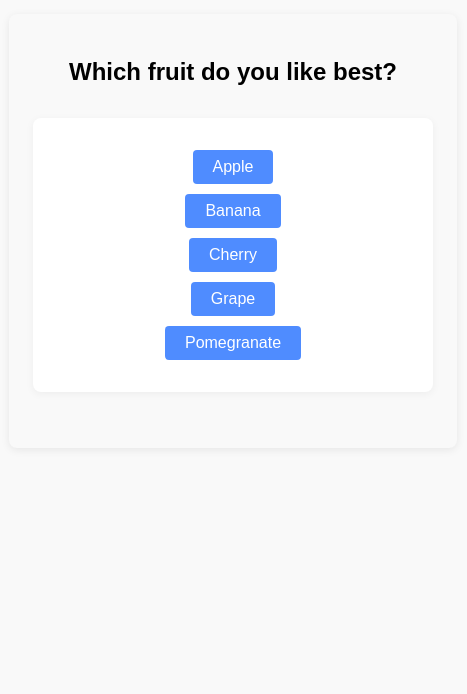
it: SurveyPage › After changing fruit and entering new prediction, feedback appears
The image size is (467, 694).
// Select "Apple" and make a prediction
Click the button "Apple" at (233, 167), box [192,150,273,184]
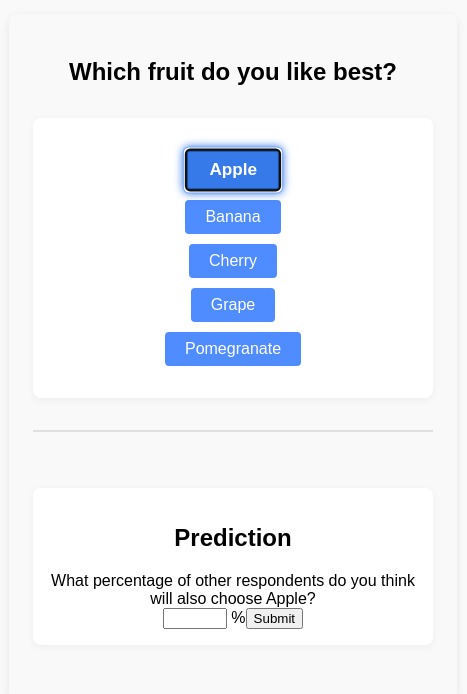
Type "42" into the number field labelled "What percentage" at (195, 618), box [163,608,227,629]
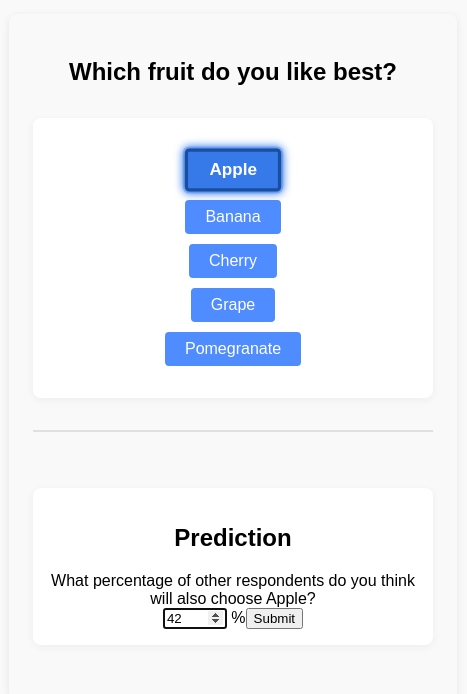
// Click submit
Click the button "Submit" at (274, 618), box [246,608,303,629]
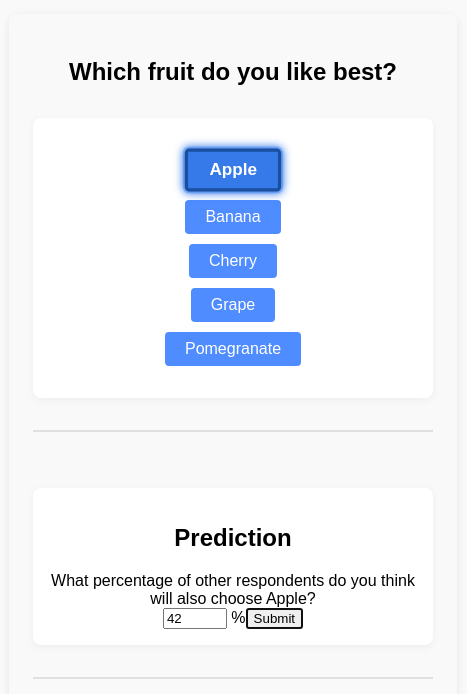
// Change to "Banana"
Click the button "Banana" at (233, 217), box [185,200,281,234]
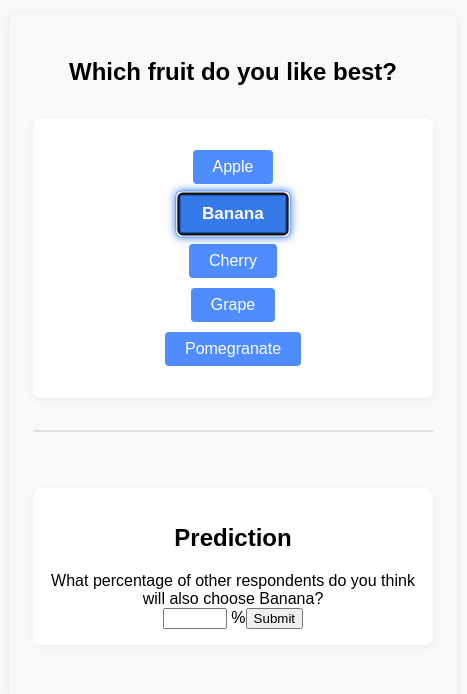
// Enter a new prediction
Type "55" into the number field labelled "What percentage" at (195, 618), box [163,608,227,629]
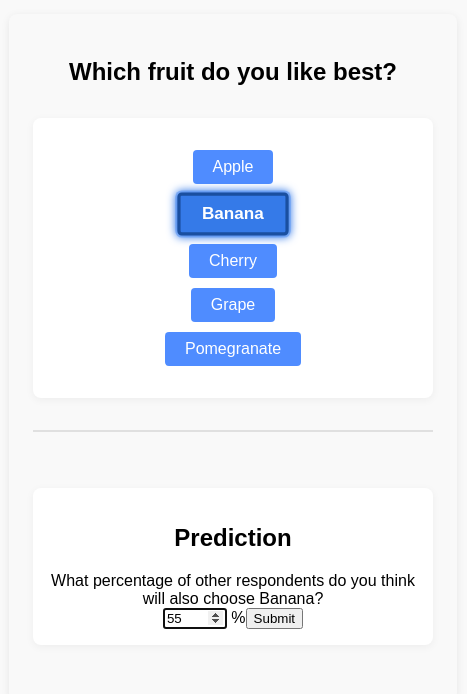
Click the button "Submit" at (274, 618), box [246,608,303,629]
(page scrolled)
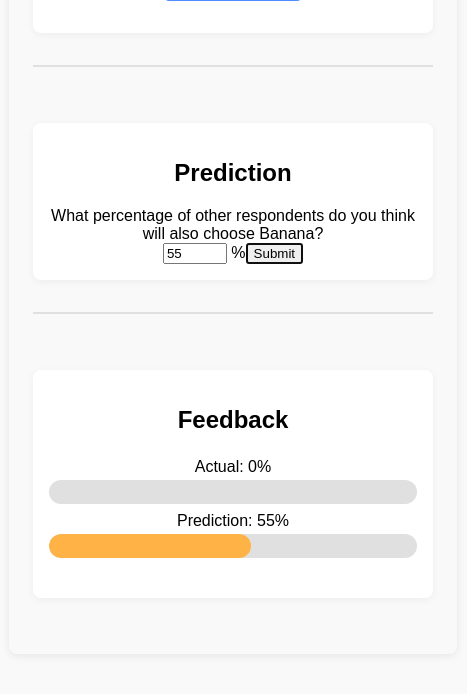
Expected: the element with class "feedback" is shown, [33,370,433,598]
